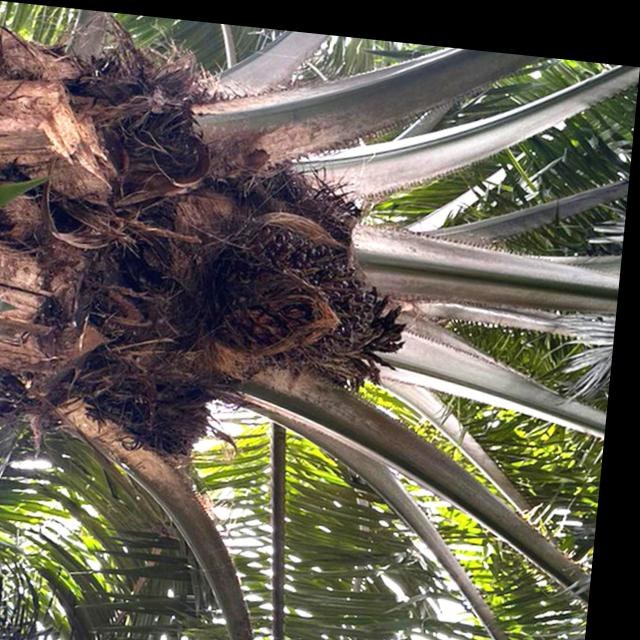almost: (194, 202, 397, 380)
